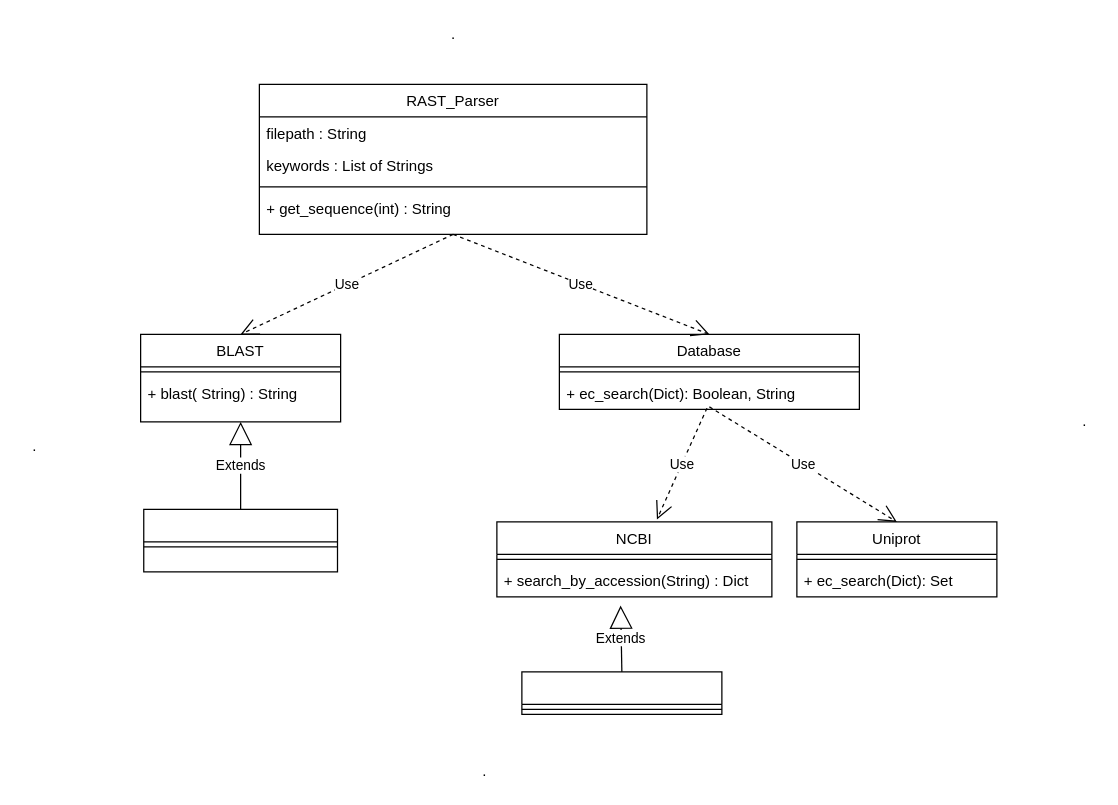
Image size: 1118x805. Some labels were removed from this diagram. Each missing label, with the box of its shape:
Blastx: (142, 508, 338, 572)
NCBI_Protein: (521, 671, 722, 714)
